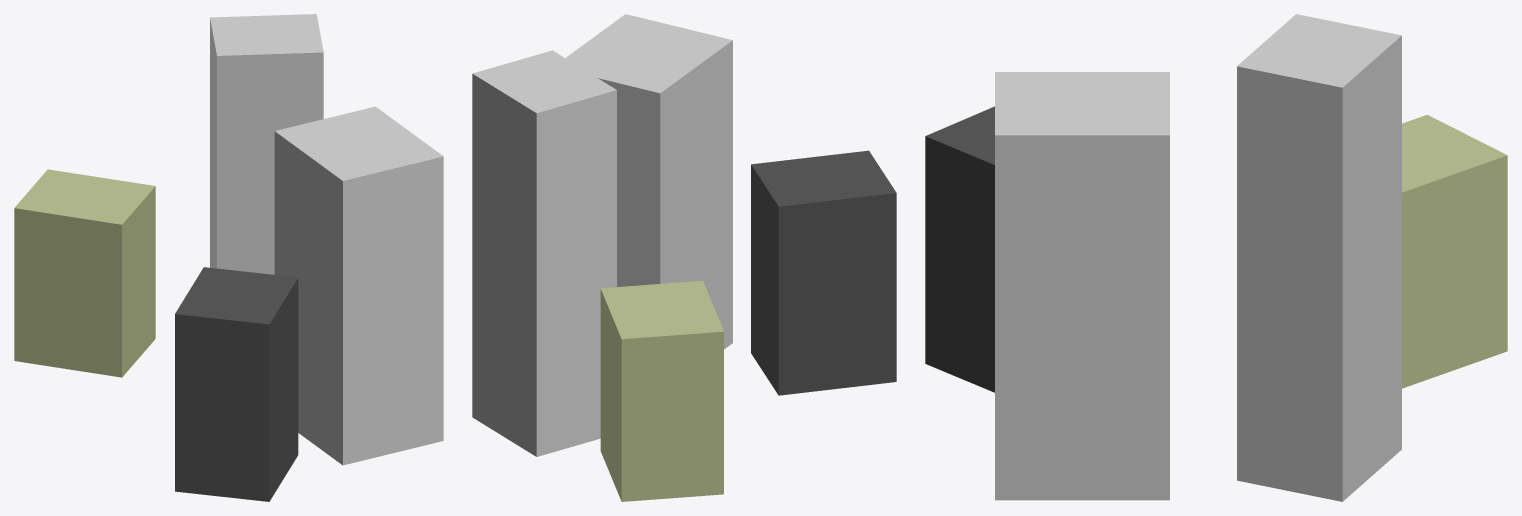
Rendered from park_scene_1_buildings.fbx.
3 renders of one model, left to right at view 1: azimuth 30°, elevation 25°; view 2: azimuth 150°, elevation 25°; view 3: azimuth 270°, elevation 25°, orthographic. The views are drawn at different scales.
Parts seen in each view (by area): view 1: Cube.002, Cube.005, Cube.006, Cube.001; view 2: Cube.001, Cube.005, Cube.002, Cube.006; view 3: Cube.001, Cube.002, Cube.006, Cube.005.
Part boxes in pixels (x1,y1,x2,y2): Cube.002: (274, 106, 443, 465); Cube.005: (175, 267, 298, 501); Cube.006: (14, 169, 155, 377); Cube.001: (210, 14, 323, 274); Cube.001: (472, 50, 616, 456); Cube.005: (751, 150, 896, 395); Cube.002: (565, 14, 732, 349); Cube.006: (600, 280, 723, 501); Cube.001: (1237, 14, 1401, 501); Cube.002: (995, 72, 1169, 500); Cube.006: (1402, 114, 1507, 388); Cube.005: (925, 106, 994, 392).
Bounding box in the file's own units: 276147 × 318006 × 401819.
